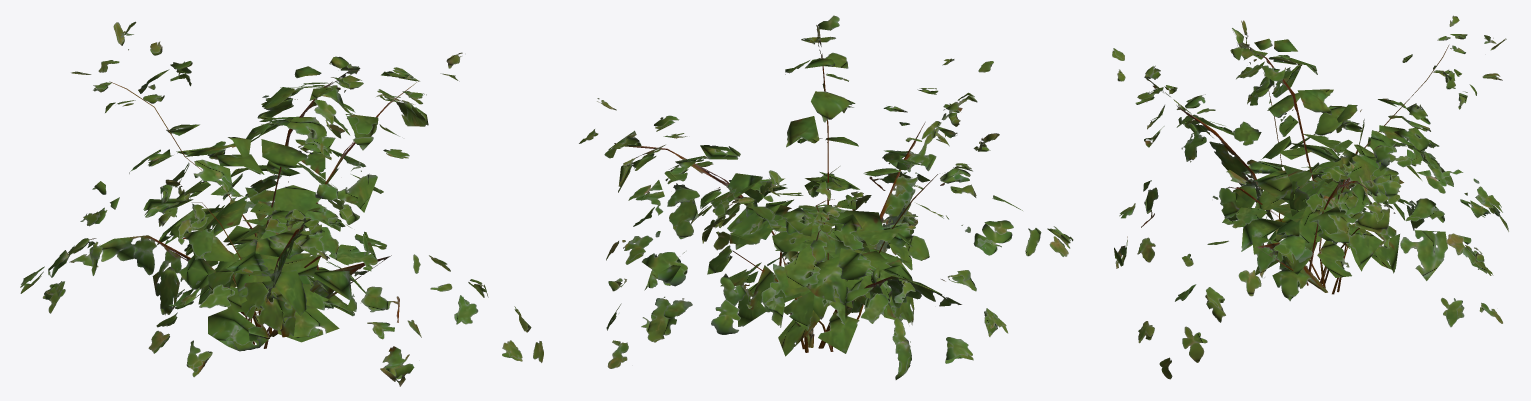
Rendered from BrambleEdge.glb.
3 views of the same model, side by side, from view 1: azimuth 30°, elevation 25°; view 2: azimuth 150°, elevation 25°; view 3: azimuth 270°, elevation 25° (orthographic). The views are drawn at different scales.
Visible parts, largest first — view 1: geometry_0; view 2: geometry_0; view 3: geometry_0.
Boxes of the visible parts, bbox=[...] form: geometry_0: bbox=[20, 21, 543, 386]; geometry_0: bbox=[579, 15, 1073, 379]; geometry_0: bbox=[1112, 15, 1508, 379].
Bounding box in the file's own units: 0.9558 × 0.66 × 0.8518.
Materials: 1 (1 with a texture image).
